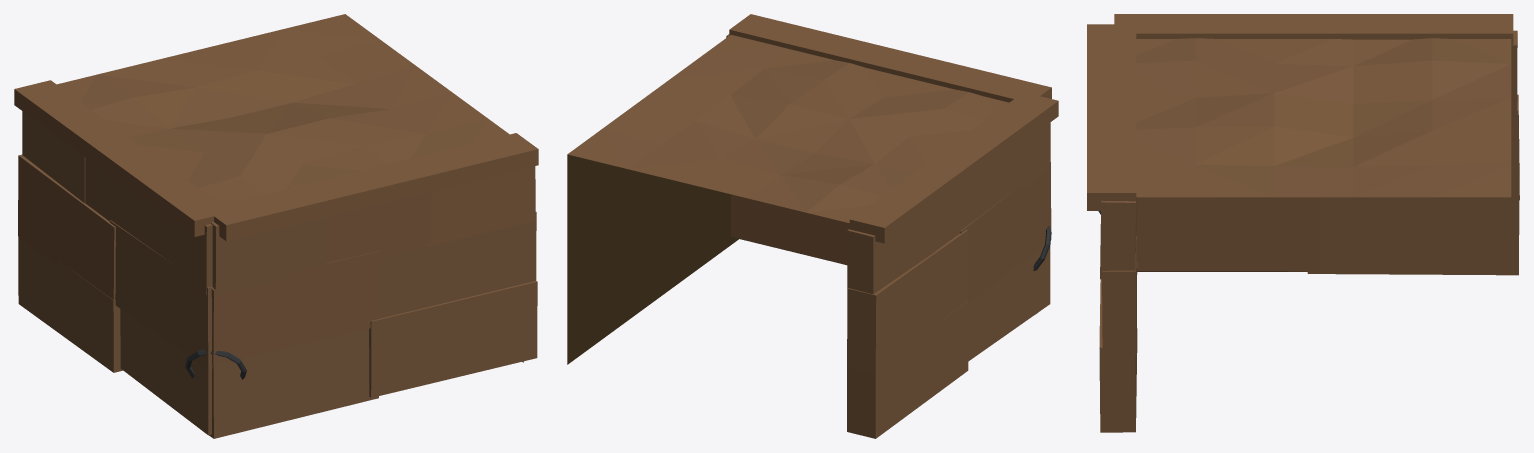
File: SM_Terrain_Tavern_02_Corner.glb
3 views of the same model, side by side, from view 1: azimuth 30°, elevation 25°; view 2: azimuth 150°, elevation 25°; view 3: azimuth 270°, elevation 25° (orthographic). The views are drawn at different scales.
Visible parts, largest first — view 1: SM_Terrain_Tavern_02_Corner_Wall, SM_Terrain_Tavern_02_Corner_StrataY01, SM_Terrain_Tavern_02_Corner_StrataY10, SM_Terrain_Tavern_02_Corner_LipY, SM_Terrain_Tavern_02_Corner_StrataY00, SM_Terrain_Tavern_02_Corner_LipX, SM_Terrain_Tavern_02_Corner_StrataY11, SM_Terrain_Tavern_02_Corner_StrataX11, SM_Terrain_Tavern_02_Corner_StrataX10, SM_Terrain_Tavern_02_Corner_StrataX01, SM_Terrain_Tavern_02_Corner_StrataY20, SM_Terrain_Tavern_02_Corner_StrataY22 (+5 smaller); view 2: SM_Terrain_Tavern_02_Corner_Wall, SM_Terrain_Tavern_02_Corner_StrataX11, SM_Terrain_Tavern_02_Corner_LipX, SM_Terrain_Tavern_02_Corner_StrataX01, SM_Terrain_Tavern_02_Corner_LipY, SM_Terrain_Tavern_02_Corner_StrataX10, SM_Terrain_Tavern_02_Corner_StrataY01, SM_Terrain_Tavern_02_Corner_StrataX00, SM_Terrain_Tavern_02_Corner_StrataX22, SM_Terrain_Tavern_02_Corner_StrataX20, SM_Terrain_Tavern_02_Corner_StrataX21; view 3: SM_Terrain_Tavern_02_Corner_Wall, SM_Terrain_Tavern_02_Corner_StrataX01, SM_Terrain_Tavern_02_Corner_StrataX00, SM_Terrain_Tavern_02_Corner_LipX, SM_Terrain_Tavern_02_Corner_LipY, SM_Terrain_Tavern_02_Corner_StrataY01, SM_Terrain_Tavern_02_Corner_StrataY11, SM_Terrain_Tavern_02_Corner_StrataY22, SM_Terrain_Tavern_02_Corner_StrataX11, SM_Terrain_Tavern_02_Corner_StrataX22.
Boxes of the visible parts, left/top/right/bottom form: SM_Terrain_Tavern_02_Corner_Wall: left=57, top=14, right=523, bottom=362; SM_Terrain_Tavern_02_Corner_StrataY01: left=369, top=281, right=537, bottom=397; SM_Terrain_Tavern_02_Corner_StrataY10: left=211, top=251, right=380, bottom=365; SM_Terrain_Tavern_02_Corner_LipY: left=204, top=133, right=538, bottom=241; SM_Terrain_Tavern_02_Corner_StrataY00: left=209, top=328, right=378, bottom=438; SM_Terrain_Tavern_02_Corner_LipX: left=14, top=80, right=230, bottom=236; SM_Terrain_Tavern_02_Corner_StrataY11: left=380, top=212, right=536, bottom=318; SM_Terrain_Tavern_02_Corner_StrataX11: left=18, top=154, right=115, bottom=300; SM_Terrain_Tavern_02_Corner_StrataX10: left=110, top=220, right=213, bottom=369; SM_Terrain_Tavern_02_Corner_StrataX01: left=18, top=236, right=122, bottom=372; SM_Terrain_Tavern_02_Corner_StrataY20: left=211, top=217, right=326, bottom=295; SM_Terrain_Tavern_02_Corner_StrataY22: left=425, top=166, right=535, bottom=246; SM_Terrain_Tavern_02_Corner_Wall: left=567, top=35, right=1008, bottom=364; SM_Terrain_Tavern_02_Corner_StrataX11: left=847, top=229, right=967, bottom=373; SM_Terrain_Tavern_02_Corner_LipX: left=849, top=92, right=1058, bottom=243; SM_Terrain_Tavern_02_Corner_StrataX01: left=847, top=301, right=968, bottom=438; SM_Terrain_Tavern_02_Corner_LipY: left=729, top=14, right=1051, bottom=102; SM_Terrain_Tavern_02_Corner_StrataX10: left=960, top=162, right=1051, bottom=303; SM_Terrain_Tavern_02_Corner_StrataY01: left=731, top=194, right=849, bottom=265; SM_Terrain_Tavern_02_Corner_StrataX00: left=968, top=245, right=1050, bottom=361; SM_Terrain_Tavern_02_Corner_StrataX22: left=847, top=206, right=936, bottom=294; SM_Terrain_Tavern_02_Corner_StrataX20: left=993, top=122, right=1050, bottom=205; SM_Terrain_Tavern_02_Corner_StrataX21: left=936, top=164, right=993, bottom=250; SM_Terrain_Tavern_02_Corner_Wall: left=1136, top=38, right=1511, bottom=271; SM_Terrain_Tavern_02_Corner_StrataX01: left=1307, top=195, right=1519, bottom=275; SM_Terrain_Tavern_02_Corner_StrataX00: left=1136, top=197, right=1319, bottom=271; SM_Terrain_Tavern_02_Corner_LipX: left=1114, top=14, right=1513, bottom=44; SM_Terrain_Tavern_02_Corner_LipY: left=1087, top=24, right=1136, bottom=210; SM_Terrain_Tavern_02_Corner_StrataY01: left=1099, top=279, right=1137, bottom=432; SM_Terrain_Tavern_02_Corner_StrataY11: left=1102, top=222, right=1136, bottom=355; SM_Terrain_Tavern_02_Corner_StrataY22: left=1100, top=197, right=1136, bottom=279; SM_Terrain_Tavern_02_Corner_StrataX11: left=1319, top=94, right=1519, bottom=202; SM_Terrain_Tavern_02_Corner_StrataX22: left=1511, top=30, right=1517, bottom=120.
Bounding box in the file's own units: 2.18 × 1.38 × 2.19.
